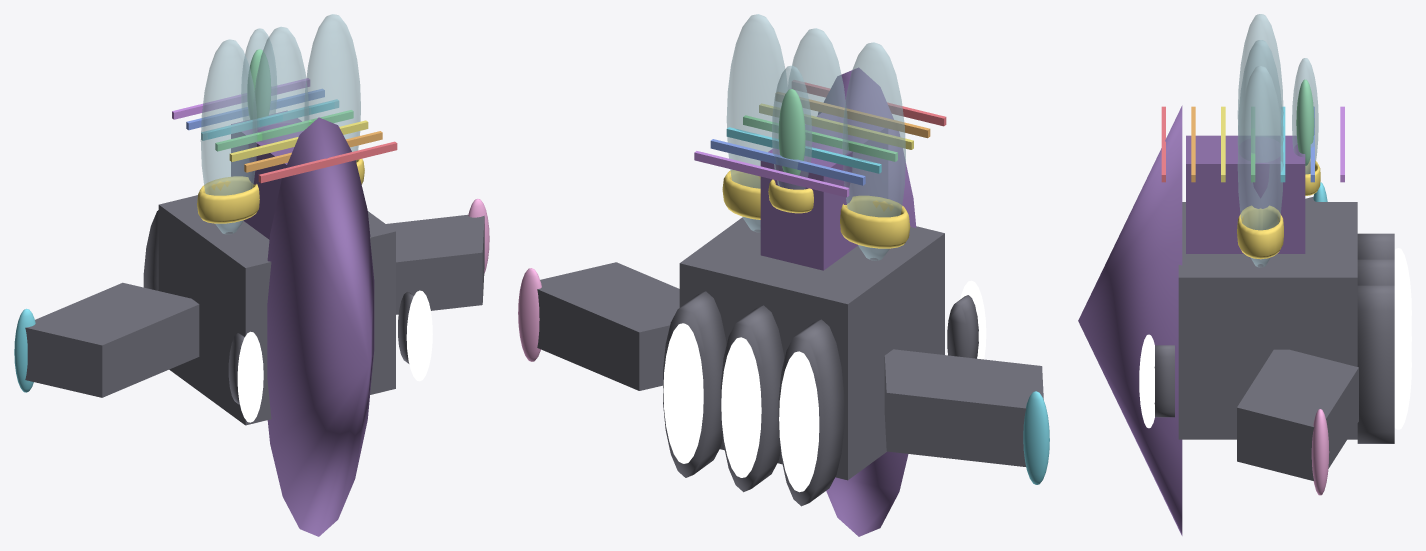
File: player_ship.glb
3 views of the same model, side by side, from view 1: azimuth 30°, elevation 25°; view 2: azimuth 150°, elevation 25°; view 3: azimuth 270°, elevation 25° (orthographic). The views are drawn at different scales.
Visible parts, largest first — view 1: PlayerShip_joined; view 2: PlayerShip_joined; view 3: PlayerShip_joined.
Part boxes in pixels (x1=…): PlayerShip_joined: x1=14, y1=14, x2=489, y2=536; PlayerShip_joined: x1=518, y1=14, x2=1049, y2=536; PlayerShip_joined: x1=1078, y1=14, x2=1411, y2=535.
Size of the model in its own units: 3.42 by 3.33 by 2.03.
